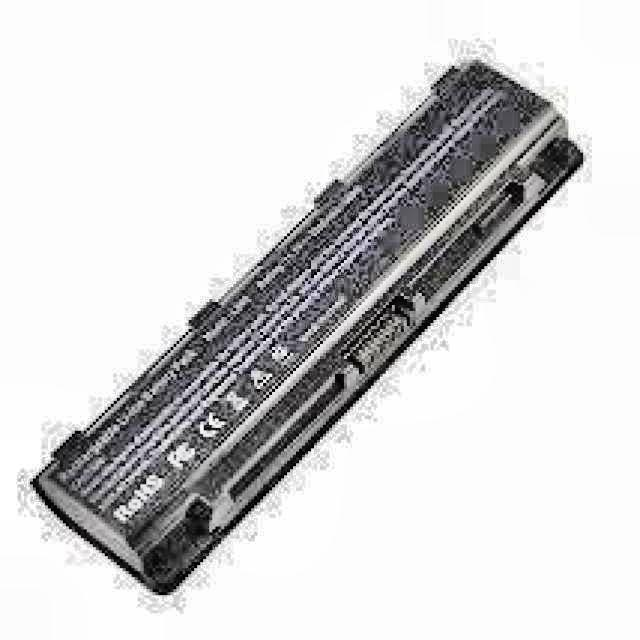battery: (33, 60, 580, 589)
